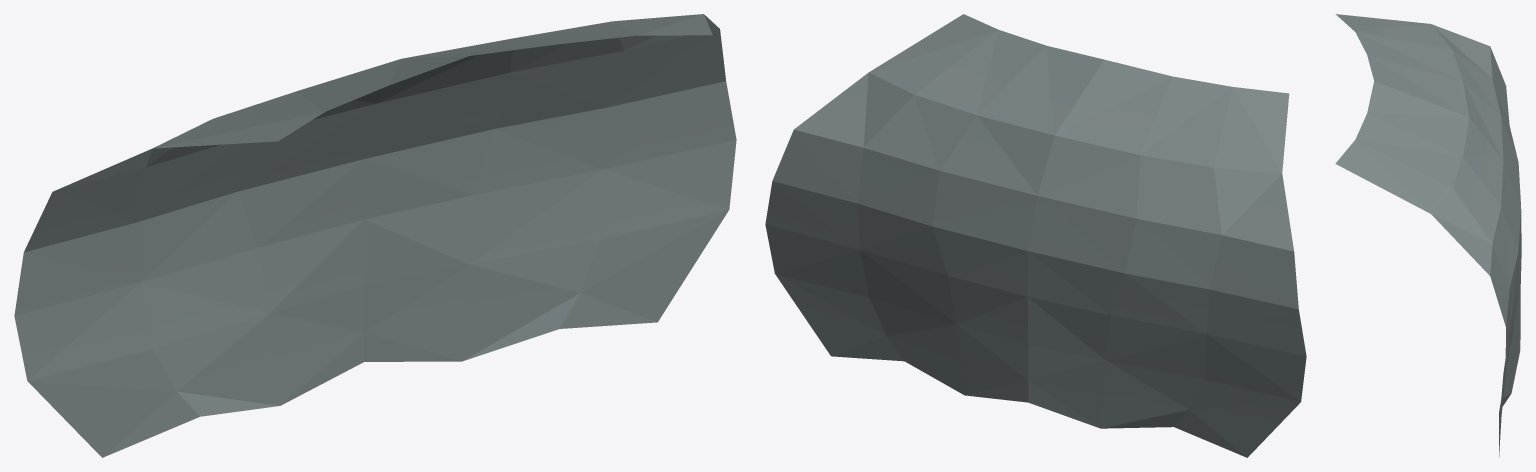
File: elfo_capa_1.glb
3 views of the same model, side by side, from view 1: azimuth 30°, elevation 25°; view 2: azimuth 150°, elevation 25°; view 3: azimuth 270°, elevation 25° (orthographic). The views are drawn at different scales.
Parts seen in each view (by area): view 1: elfo_capa_1; view 2: elfo_capa_1; view 3: elfo_capa_1.
Part boxes in pixels (bbox=[...]): elfo_capa_1: bbox=[14, 14, 736, 457]; elfo_capa_1: bbox=[765, 14, 1306, 457]; elfo_capa_1: bbox=[1335, 14, 1521, 456].
Bounding box in the file's own units: 1.08 × 0.571 × 0.3426.
Materials: 1 (1 with a texture image).
